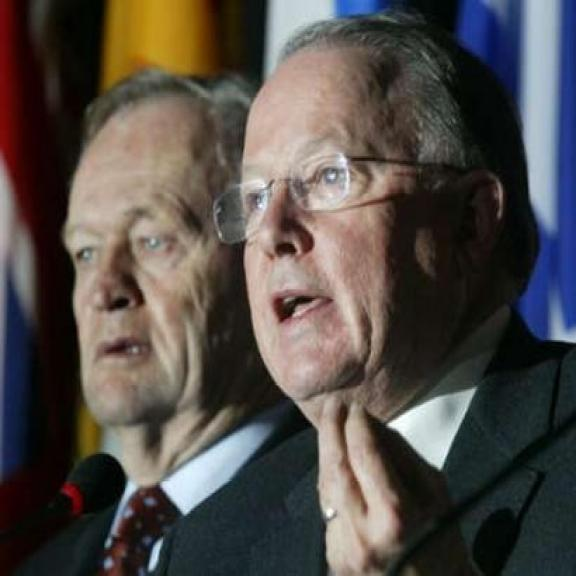face: (240, 41, 512, 424), (56, 85, 227, 436)
